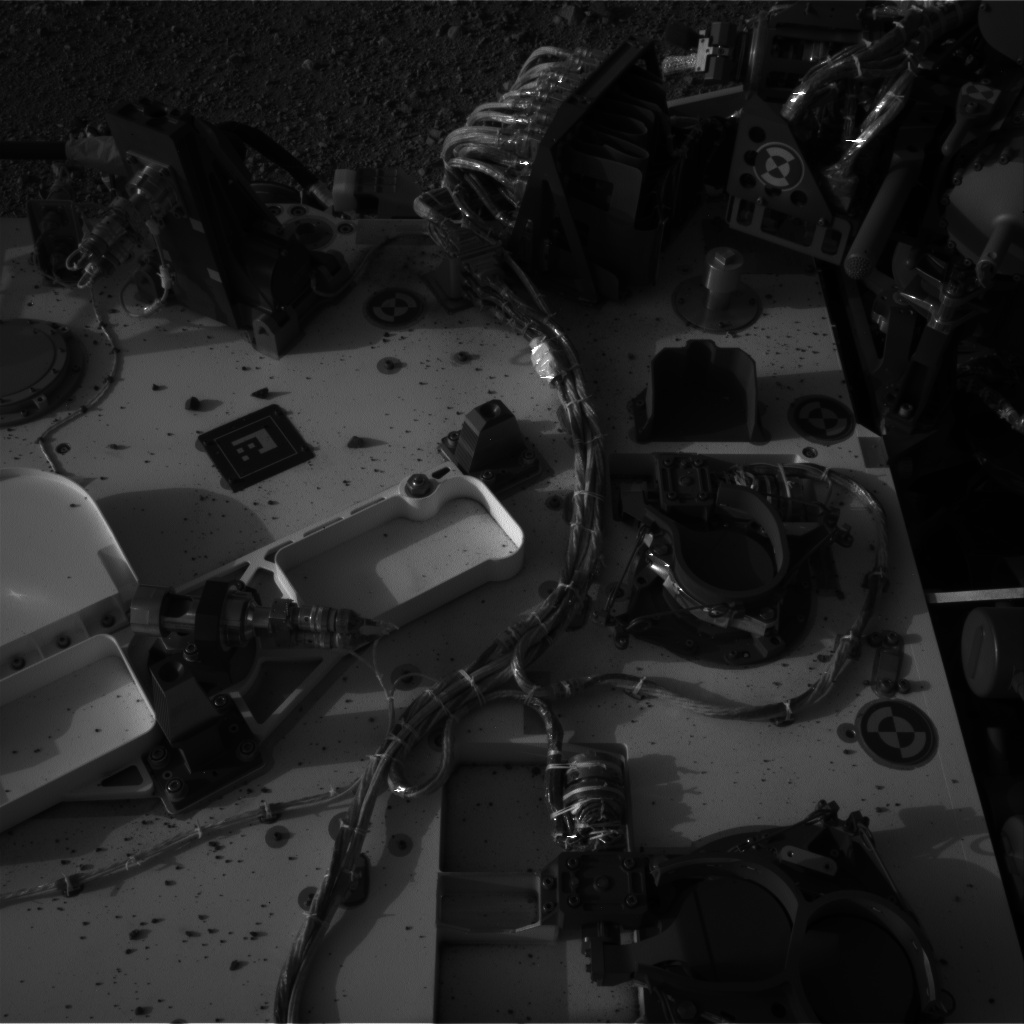soil: (19, 11, 544, 91)
